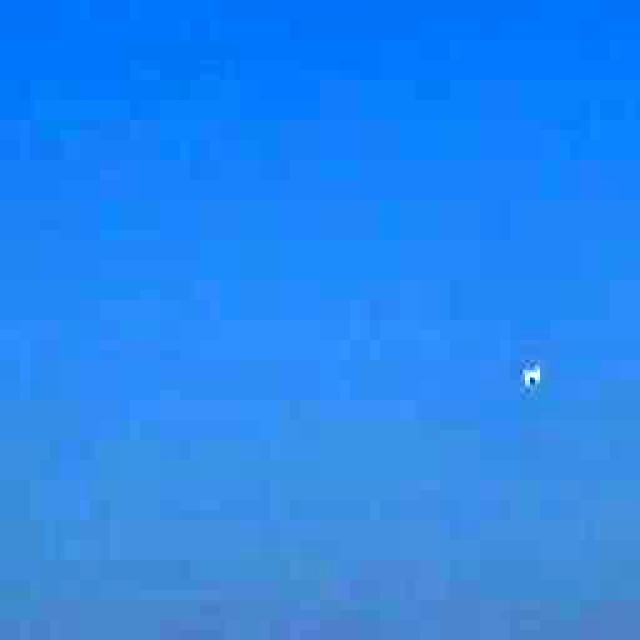bird: (511, 345, 576, 415)
